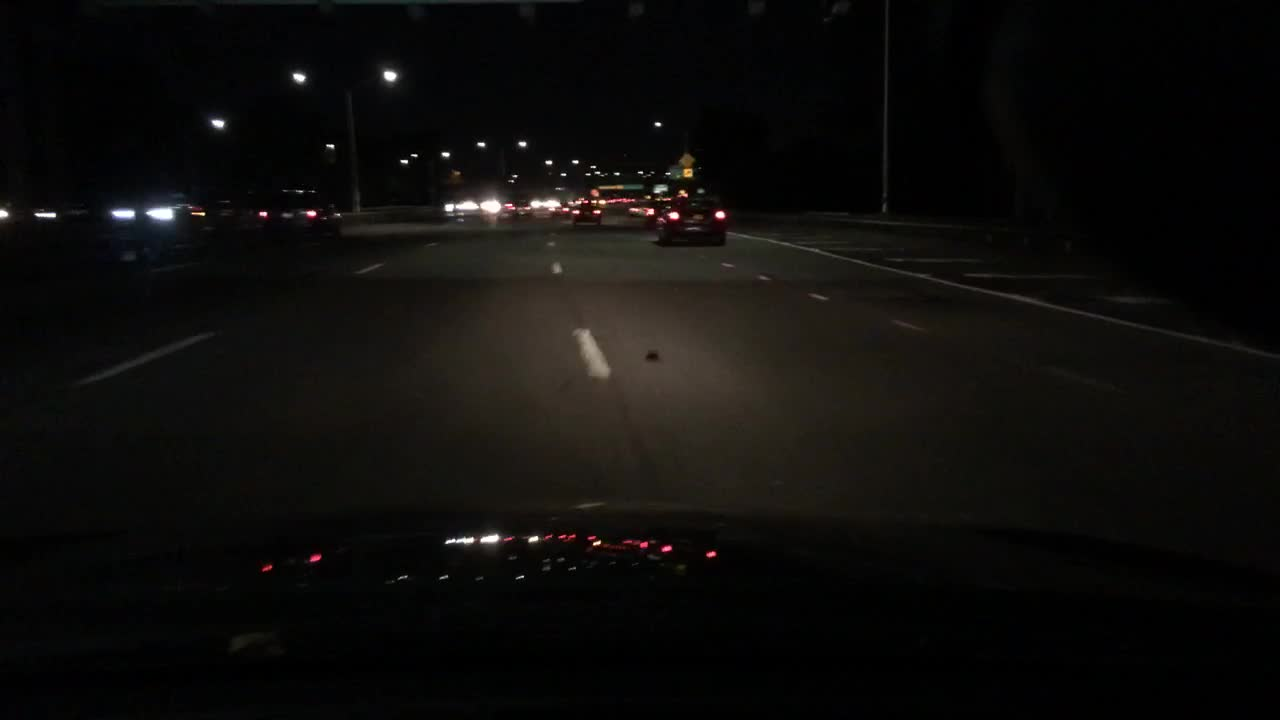car: (246, 184, 343, 244), (656, 193, 730, 246), (110, 186, 196, 227), (463, 190, 503, 220), (570, 200, 604, 227), (501, 197, 526, 220), (644, 203, 670, 224), (441, 193, 461, 215), (527, 193, 553, 209), (549, 201, 567, 218), (626, 201, 649, 213)
traffic sign: (678, 150, 693, 163), (598, 181, 622, 189), (679, 166, 693, 178), (622, 181, 644, 186)
